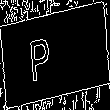P_N: (43, 27, 67, 83)
